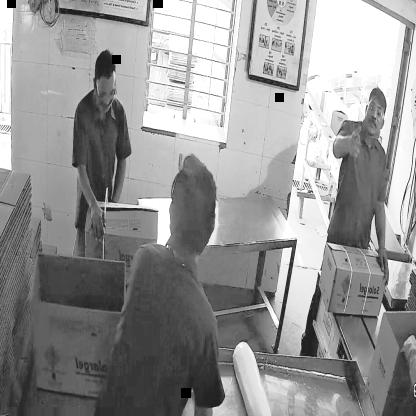goggles: (94, 82, 119, 104), (364, 101, 389, 121)
